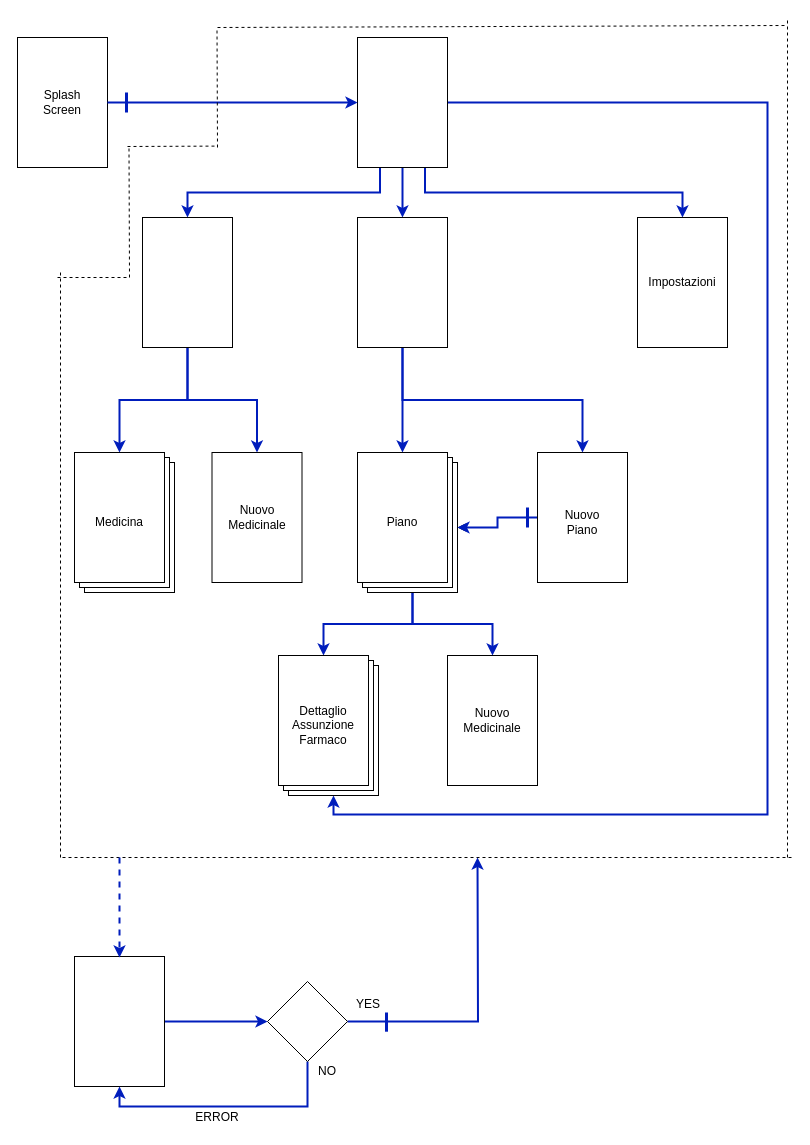
This 810x1145 diagram has some shape labels left out. The centre of each missing label's shape, as x and y in pixels:
Armadietto Medicinali: pixel 187 282
Home: pixel 402 102
Log In: pixel 119 1021
Piani Terapeutici: pixel 402 282
